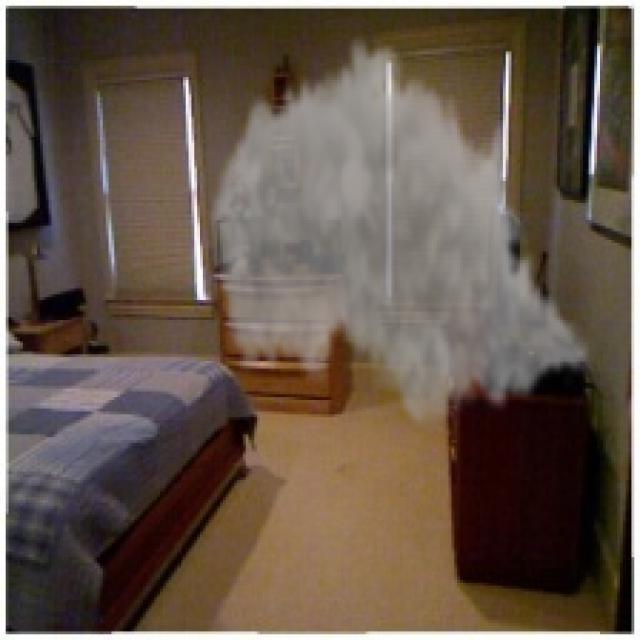Smoke: (206, 29, 594, 438)
